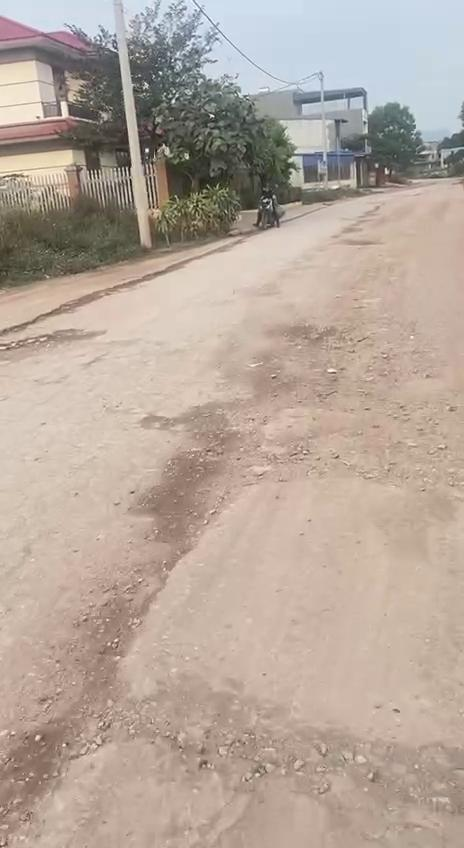pothole: (22, 669, 464, 846), (224, 417, 374, 495), (0, 322, 98, 354)
